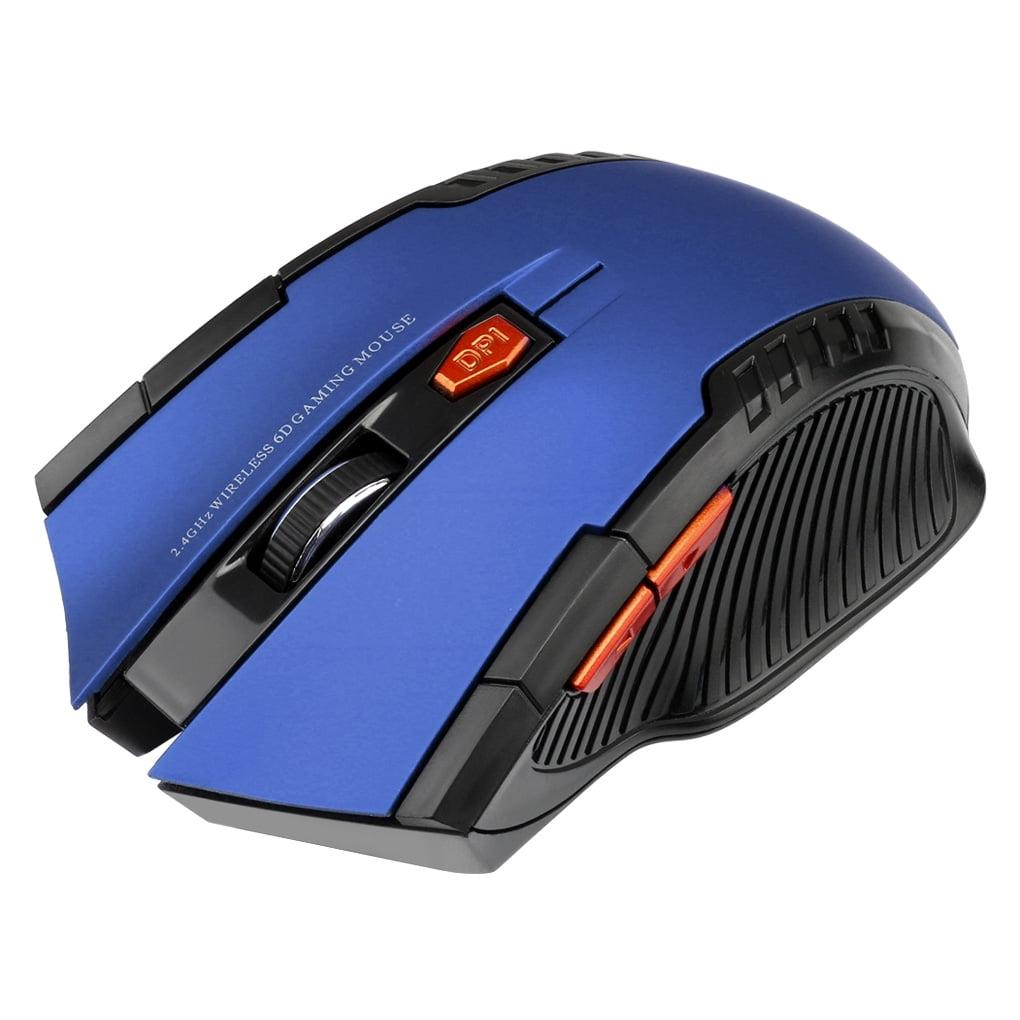computer mouse: (33, 153, 989, 877)
